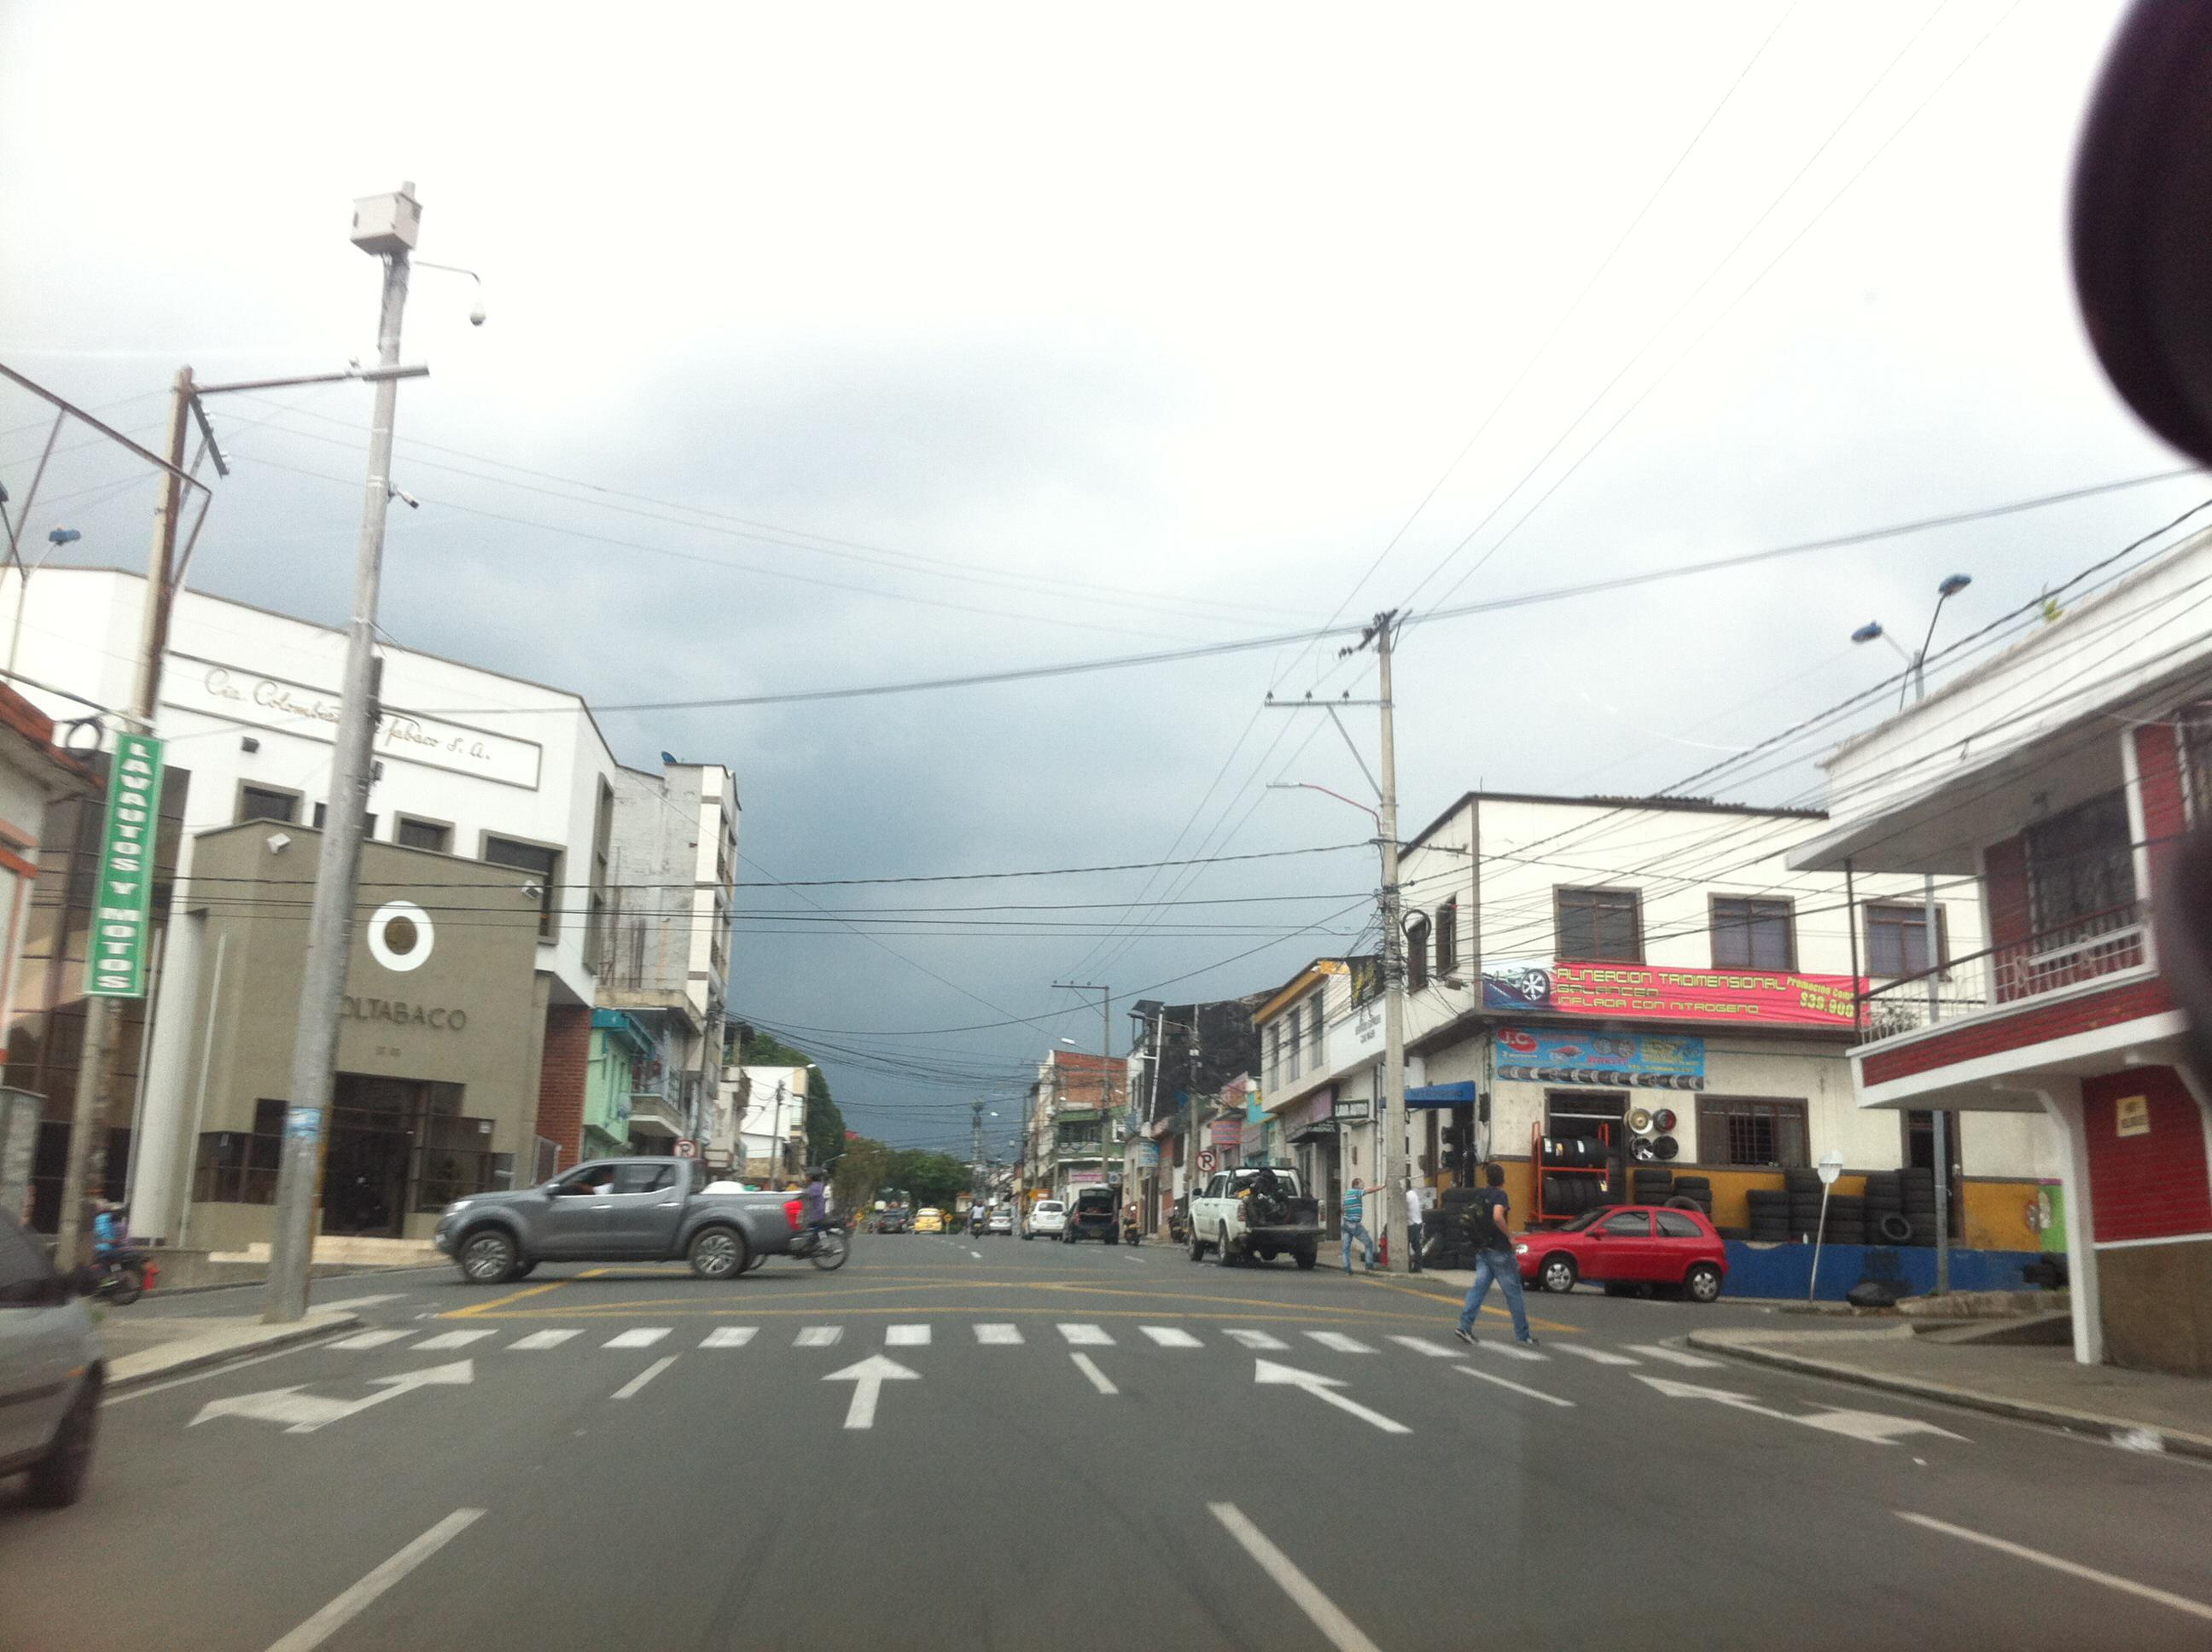vinyl banner: (1464, 928, 1868, 1038), (1487, 1017, 1690, 1102)
